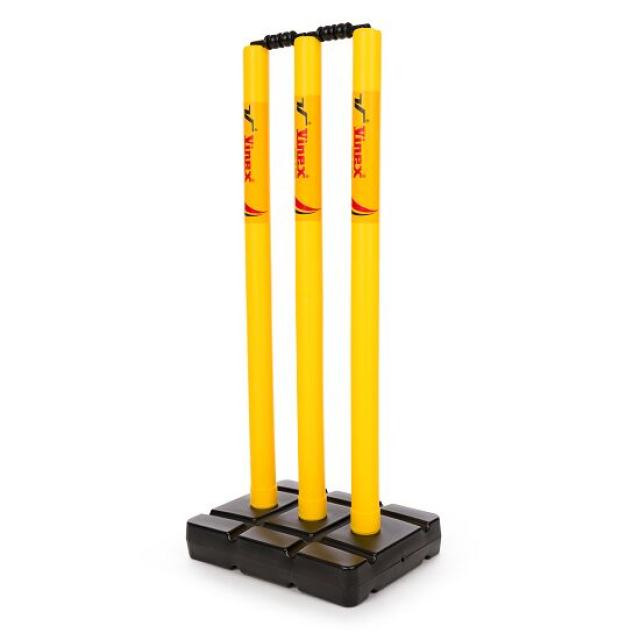stump: (245, 17, 382, 526)
